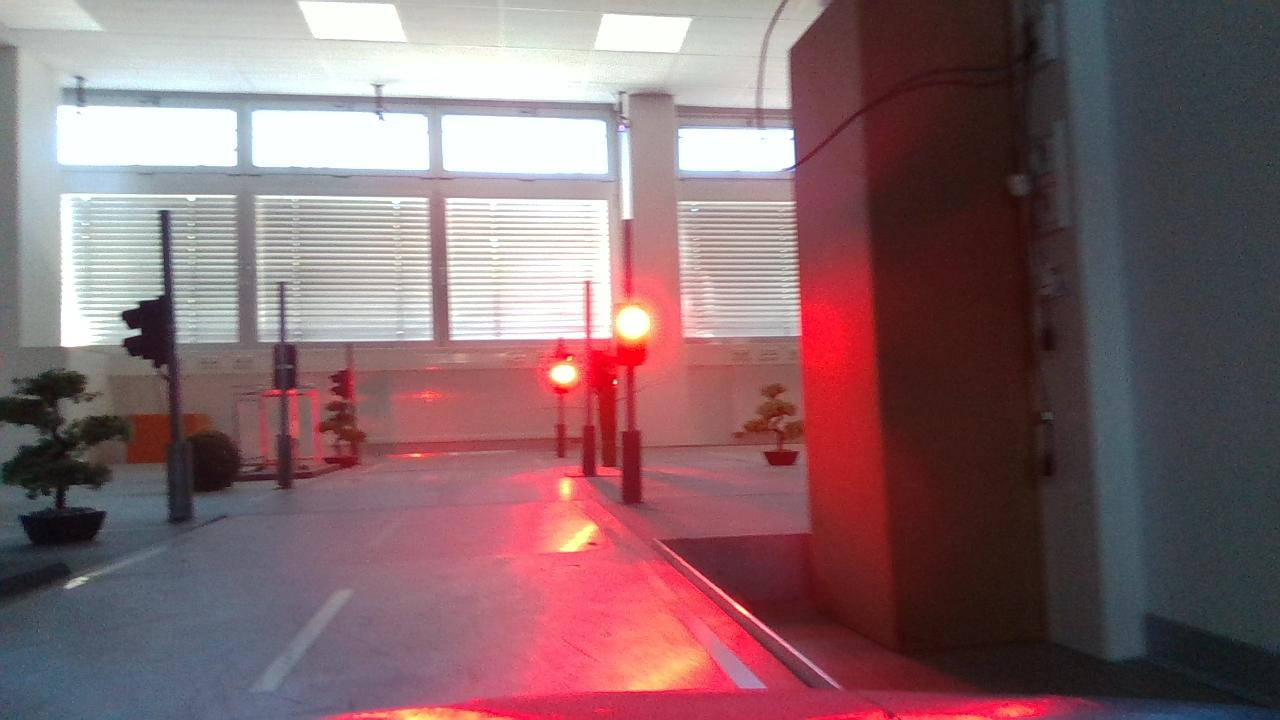traffic_light_red: (598, 290, 665, 382)
